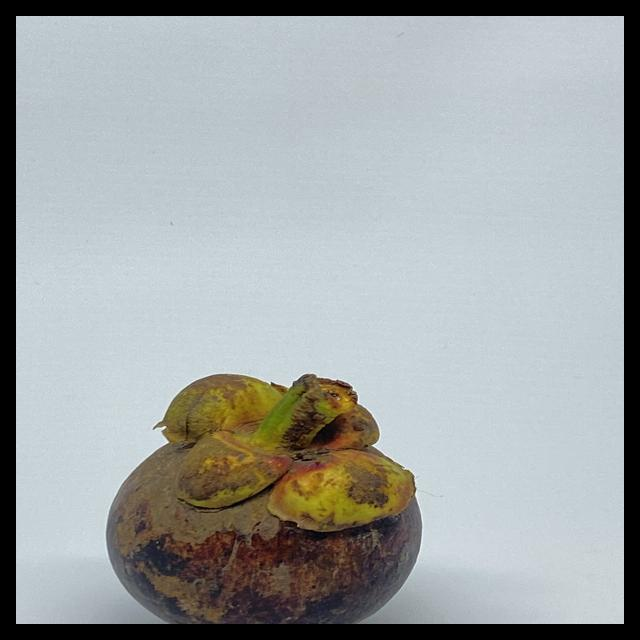mangosteen: (91, 325, 433, 624)
